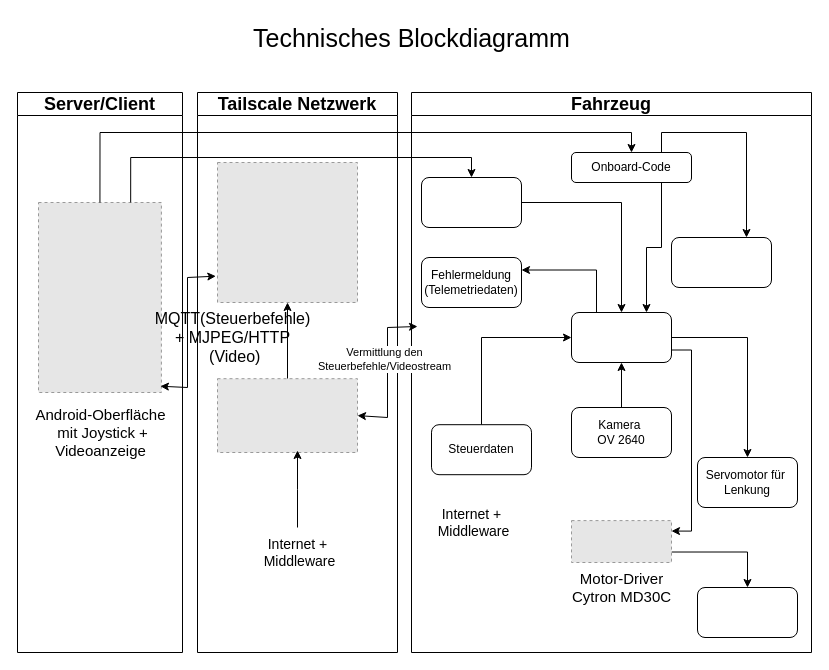
This 829x670 diagram has some shape labels left out. Grey dashed boxes stand in for pictures. Each missing label, with the centre of its shape:
"12V Antriebsmotor" goes at (x=747, y=612).
"Authentifizierung (Tailscale VPN)" goes at (x=471, y=202).
"Deep-Sleep (Aus)" goes at (x=721, y=262).
"Raspberry Pi" goes at (x=621, y=337).
